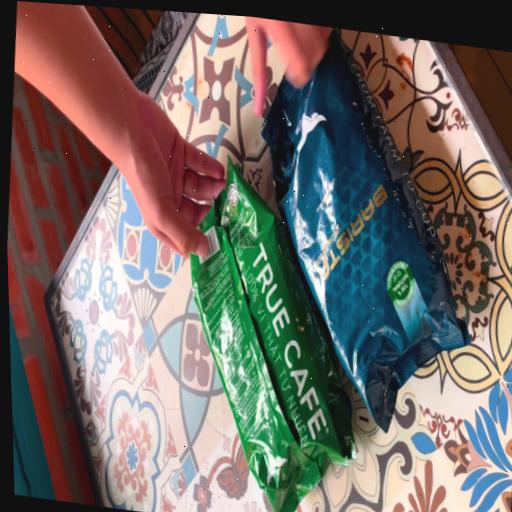cafe_hat: (262, 30, 469, 431)
cafe_xay: (190, 160, 353, 512)
